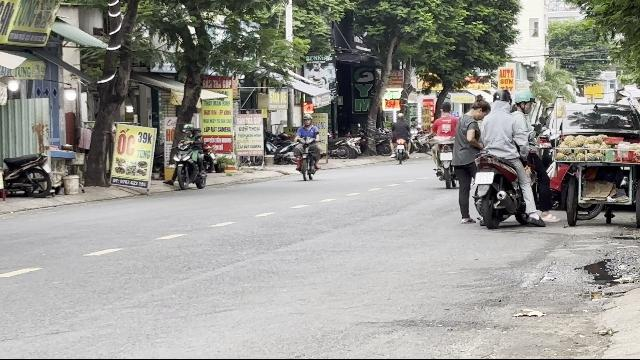helmet: (512, 89, 536, 113), (490, 87, 510, 108), (182, 123, 192, 135)
licenseplate: (475, 172, 493, 182)
motorcyclist: (466, 85, 540, 229), (168, 122, 210, 192)
